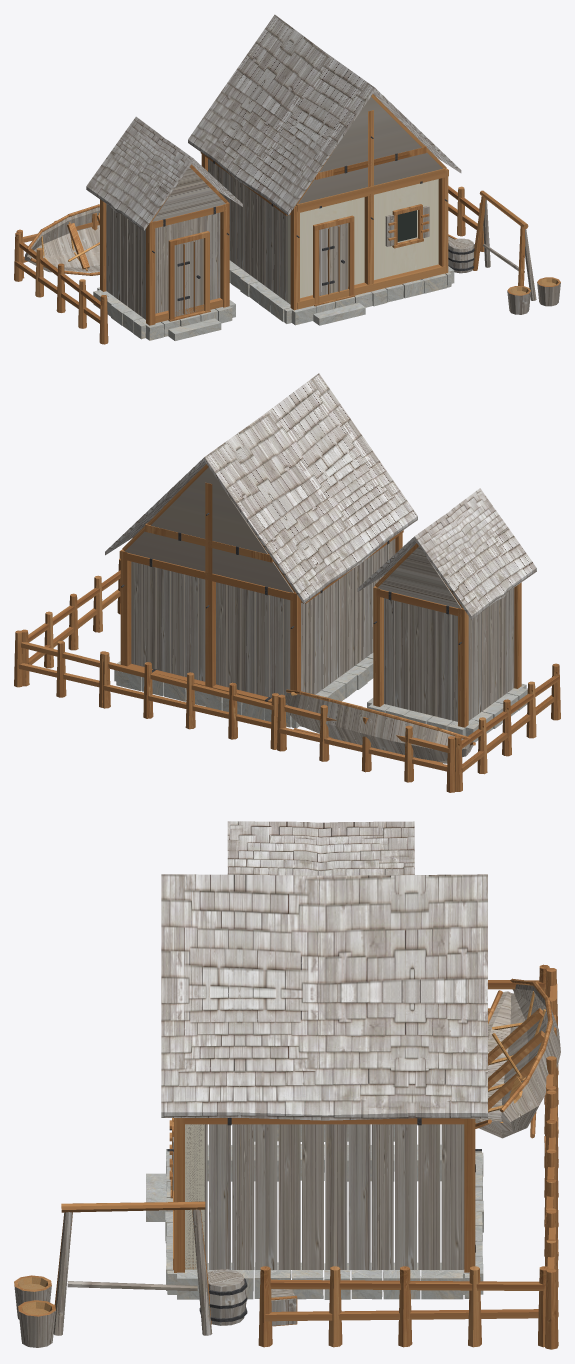
The model's file is fishing_camp_textured_v7.glb.
3 renders of one model, top to bottom at view 1: azimuth 30°, elevation 25°; view 2: azimuth 150°, elevation 25°; view 3: azimuth 270°, elevation 25°, orthographic. The views are drawn at different scales.
Parts seen in each view (by area): view 1: FC_Main_Roof_Left, FC_Shed_Roof_Left, FC_Main_Front_Gable, FC_Main_Front_Window_Host, FC_Main_Left_Plank_Wall, FC_Main_Front_Door_Host, FC_Shed_Left_Wall, FC_Leaning_River_Dugout, FC_Shed_Service_Door, FC_Main_Service_Door, FC_Shed_Front_Door_Host, FC_Fence_West (+23 smaller); view 2: FC_Main_Roof_Left, FC_Main_Rear_Plank_Wall, FC_Shed_Roof_Left, FC_Main_Rear_Gable, FC_Shed_Rear_Wall, FC_Main_Left_Plank_Wall, FC_Leaning_River_Dugout, FC_Shed_Left_Wall, FC_Fence_Rear_Centre, FC_Fence_Rear_West, FC_Fence_West, FC_Fence_East (+19 smaller); view 3: FC_Main_Roof_Right, FC_Main_Right_Plank_Wall, FC_Shed_Roof_Right, FC_Fence_East, FC_Leaning_River_Dugout, FC_Fish_Drying_Rack, FC_Main_Foundation_Right, FC_Wash_Buckets, FC_Main_Front_Window_Host, FC_Brine_Barrel, FC_Main_Rear_Post_3, FC_Fence_Rear_Centre (+9 smaller).
Part boxes in pixels (x1,y1,x2,y2): FC_Main_Roof_Left: [188, 14, 374, 215]; FC_Shed_Roof_Left: [86, 116, 193, 230]; FC_Main_Front_Gable: [295, 94, 446, 205]; FC_Main_Front_Window_Host: [371, 168, 445, 291]; FC_Main_Left_Plank_Wall: [208, 159, 287, 302]; FC_Main_Front_Door_Host: [287, 186, 371, 309]; FC_Shed_Left_Wall: [106, 204, 145, 319]; FC_Leaning_River_Dugout: [24, 204, 99, 275]; FC_Shed_Service_Door: [168, 231, 210, 321]; FC_Main_Service_Door: [313, 215, 355, 306]; FC_Shed_Front_Door_Host: [155, 212, 222, 323]; FC_Fence_West: [14, 232, 108, 344]; FC_Main_Roof_Left: [204, 373, 417, 603]; FC_Main_Rear_Plank_Wall: [131, 561, 290, 697]; FC_Shed_Roof_Left: [414, 488, 536, 619]; FC_Main_Rear_Gable: [122, 464, 295, 592]; FC_Shed_Rear_Wall: [384, 598, 457, 721]; FC_Main_Left_Plank_Wall: [301, 538, 395, 694]; FC_Leaning_River_Dugout: [285, 689, 475, 763]; FC_Shed_Left_Wall: [468, 588, 513, 720]; FC_Fence_Rear_Centre: [102, 651, 278, 749]; FC_Fence_Rear_West: [277, 694, 455, 792]; FC_Fence_West: [455, 663, 560, 791]; FC_Fence_East: [21, 558, 120, 686]; FC_Main_Roof_Right: [161, 874, 487, 1120]; FC_Main_Right_Plank_Wall: [185, 1124, 463, 1269]; FC_Shed_Roof_Right: [227, 821, 414, 875]; FC_Fence_East: [258, 1266, 549, 1347]; FC_Leaning_River_Dugout: [475, 978, 560, 1138]; FC_Fish_Drying_Rack: [53, 1201, 212, 1335]; FC_Main_Foundation_Right: [177, 1262, 469, 1299]; FC_Wash_Buckets: [14, 1275, 55, 1347]; FC_Main_Front_Window_Host: [173, 1124, 204, 1269]; FC_Brine_Barrel: [199, 1269, 247, 1325]; FC_Main_Rear_Post_3: [464, 1118, 481, 1272]; FC_Fence_Rear_Centre: [544, 1090, 558, 1282].
Size of the model in its own units: 10.51 by 5.69 by 7.84.
15 materials, 14 textured.
